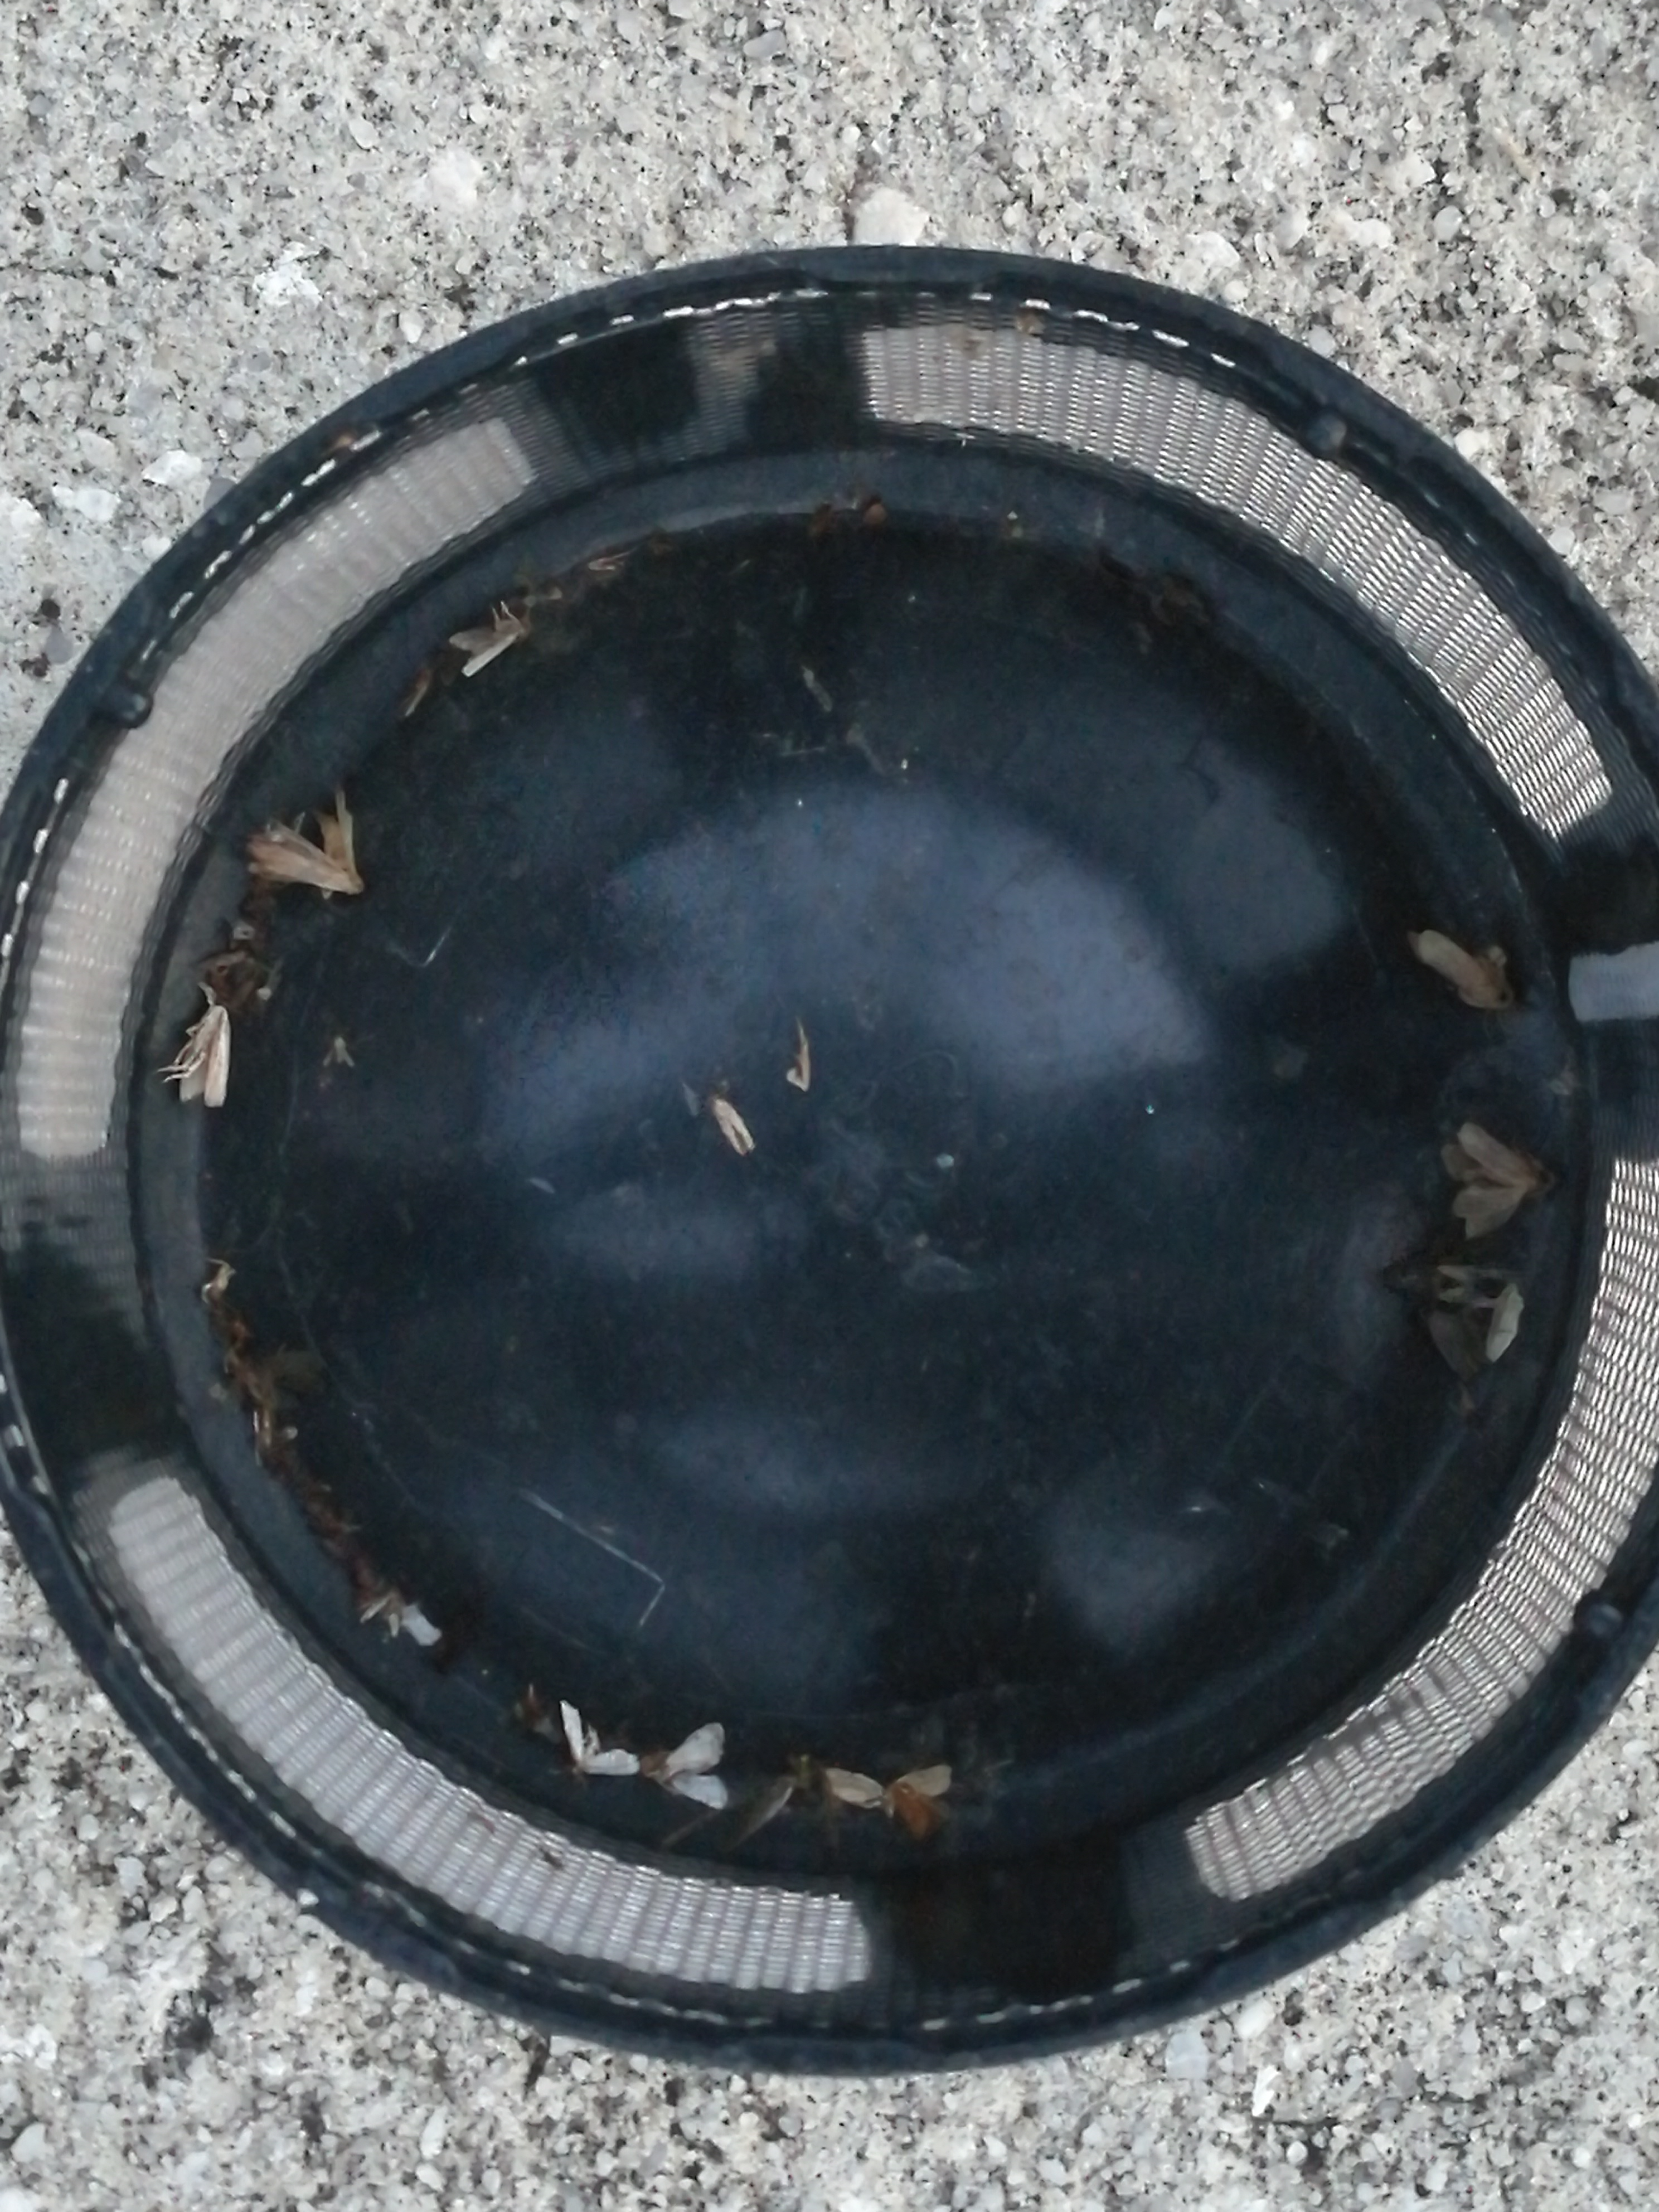mosquito: (179, 1005, 227, 1111)
moth: (251, 786, 366, 894), (1445, 1123, 1544, 1235), (828, 1768, 948, 1841), (1408, 930, 1511, 1005), (563, 1703, 640, 1773), (666, 1724, 725, 1806), (451, 610, 525, 676)
